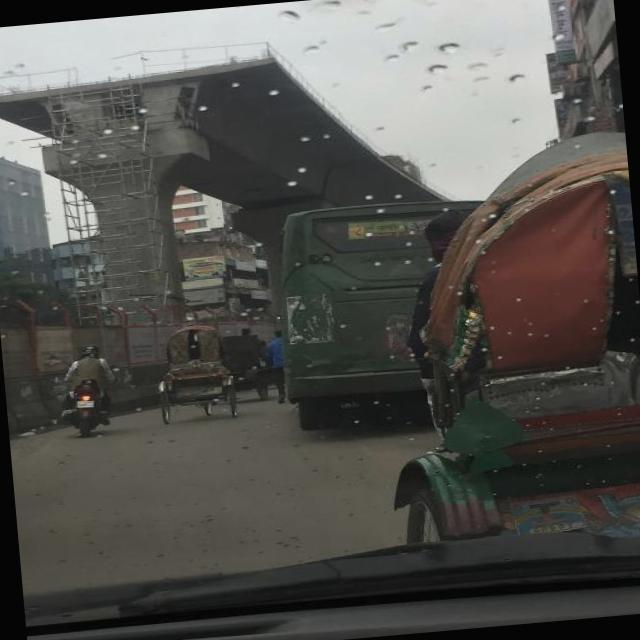bus: (272, 197, 472, 432)
motorcycle: (361, 130, 640, 552), (151, 320, 241, 428), (59, 376, 114, 440)
